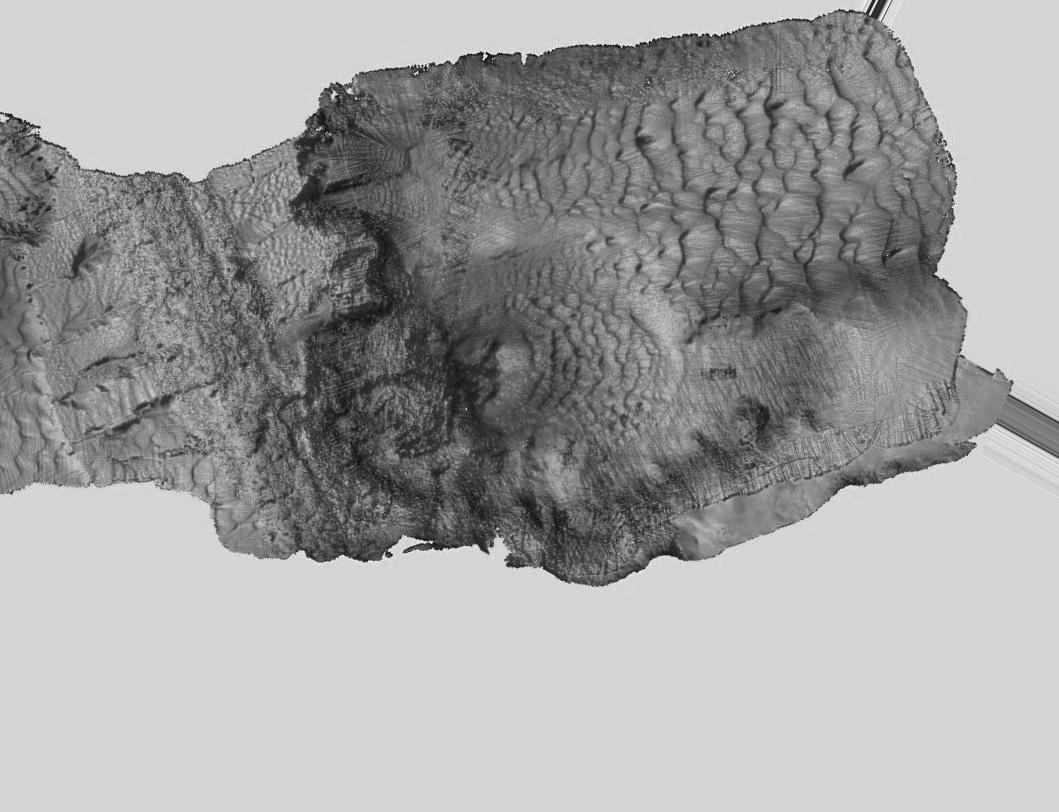Dune: (558, 116, 675, 418), (653, 190, 941, 281), (637, 100, 914, 181)
Scarp: (443, 485, 843, 658)
Scour pit: (407, 285, 557, 459)
Submerged dike: (110, 162, 376, 587)
